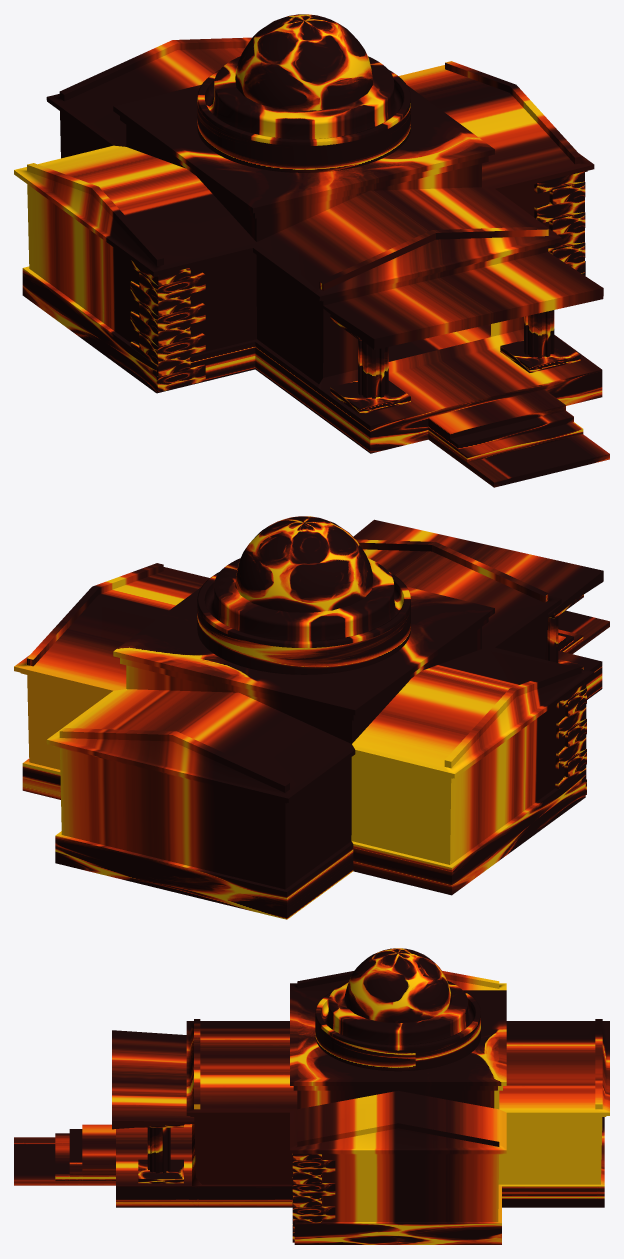
File: MausoleumLava.fbx
The picture shows the model from 3 angles, top to bottom: view 1: azimuth 30°, elevation 25°; view 2: azimuth 150°, elevation 25°; view 3: azimuth 270°, elevation 25°; orthographic projection. The views are drawn at different scales.
Visible parts, largest first — view 1: pCylinder4; view 2: pCylinder4; view 3: pCylinder4.
Boxes of the visible parts, x1,y1,x2,y2 form: pCylinder4: [14, 14, 609, 487]; pCylinder4: [14, 516, 609, 919]; pCylinder4: [14, 948, 609, 1244].
Size of the model in its own units: 49.64 by 29.22 by 74.97.
Materials: 1 (1 with a texture image).
